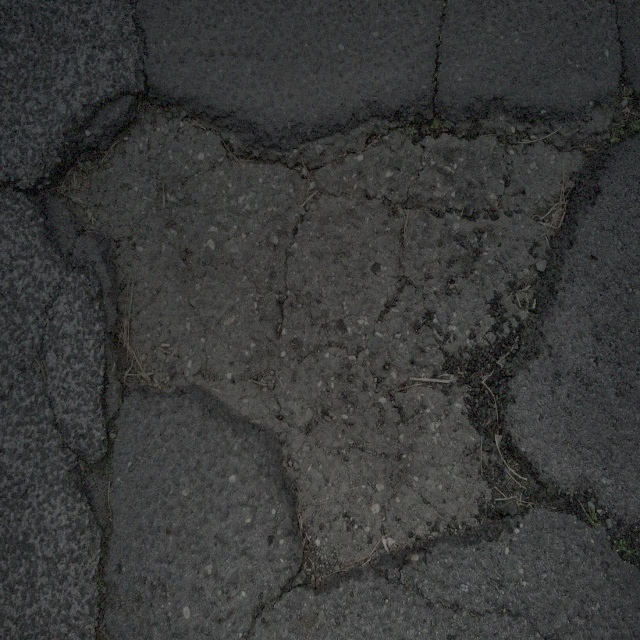pothole: (37, 83, 615, 584)
